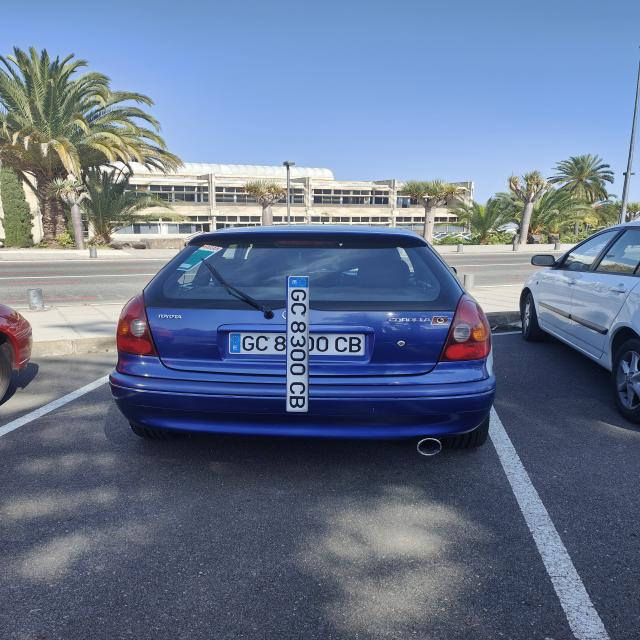License-Plate: (257, 304, 337, 384)
